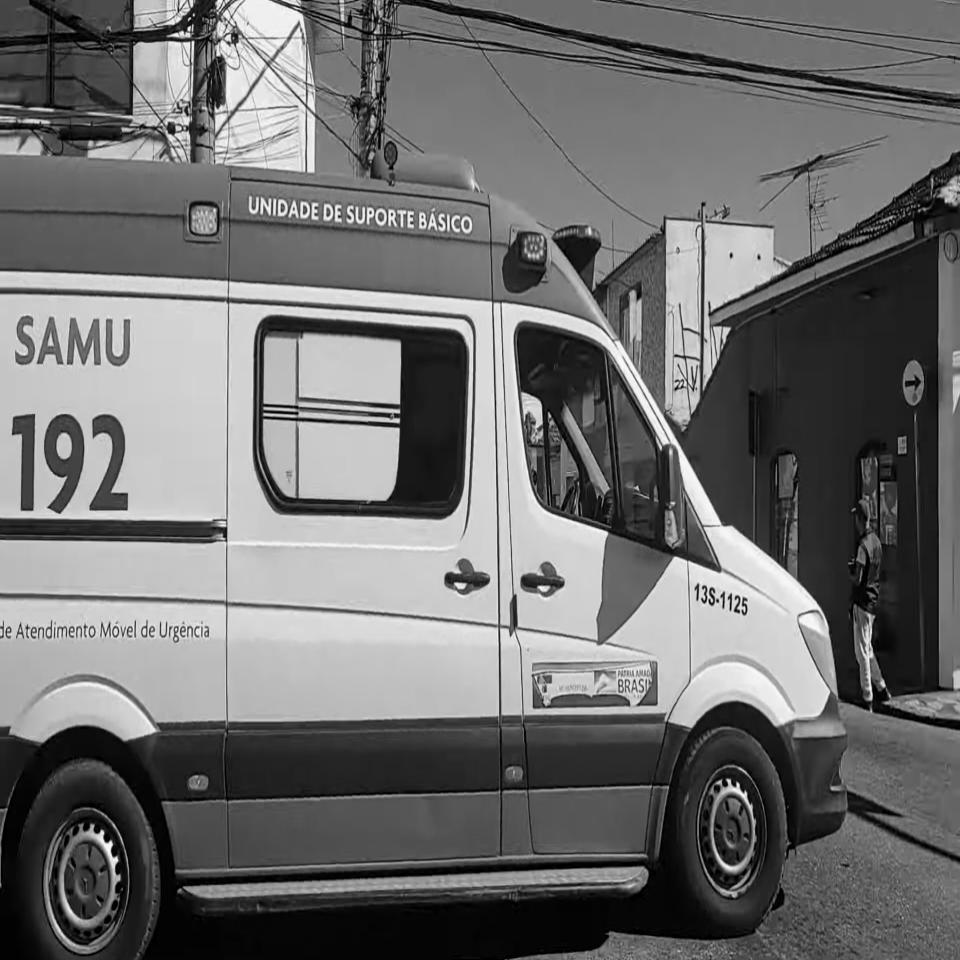ambulancia: (0, 139, 847, 960)
